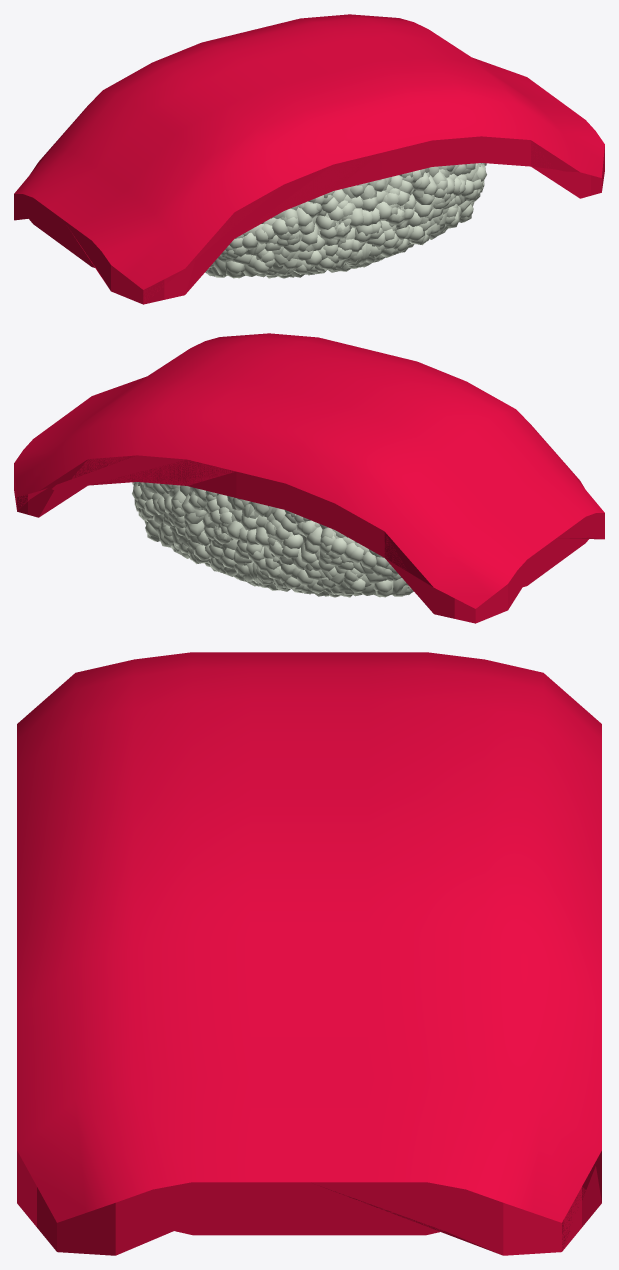
Rendered from maguro.fbx.
3 views of the same model, one above another, from view 1: azimuth 30°, elevation 25°; view 2: azimuth 150°, elevation 25°; view 3: azimuth 270°, elevation 25° (orthographic). The views are drawn at different scales.
Parts seen in each view (by area): view 1: maguro; view 2: maguro; view 3: maguro.
Boxes of the visible parts, x1,y1,x2,y2 form: maguro: (14, 14, 604, 304); maguro: (14, 333, 604, 623); maguro: (17, 652, 601, 1255).
Bounding box in the file's own units: 390 × 142 × 200.
